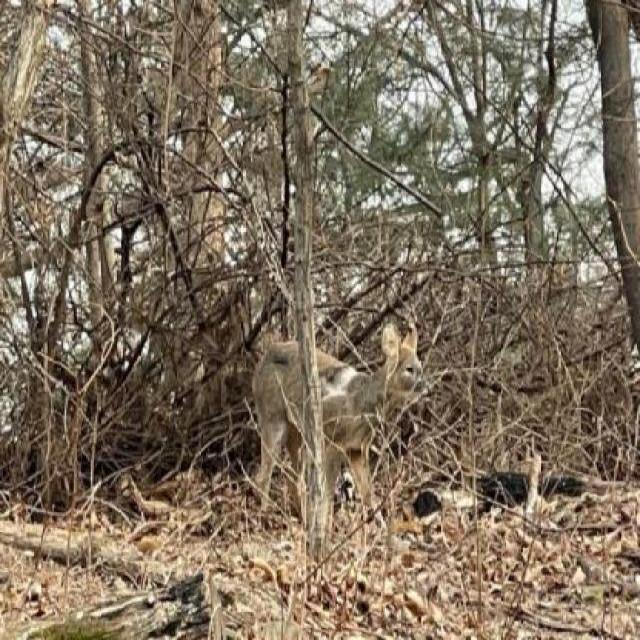deer: (255, 322, 434, 553)
